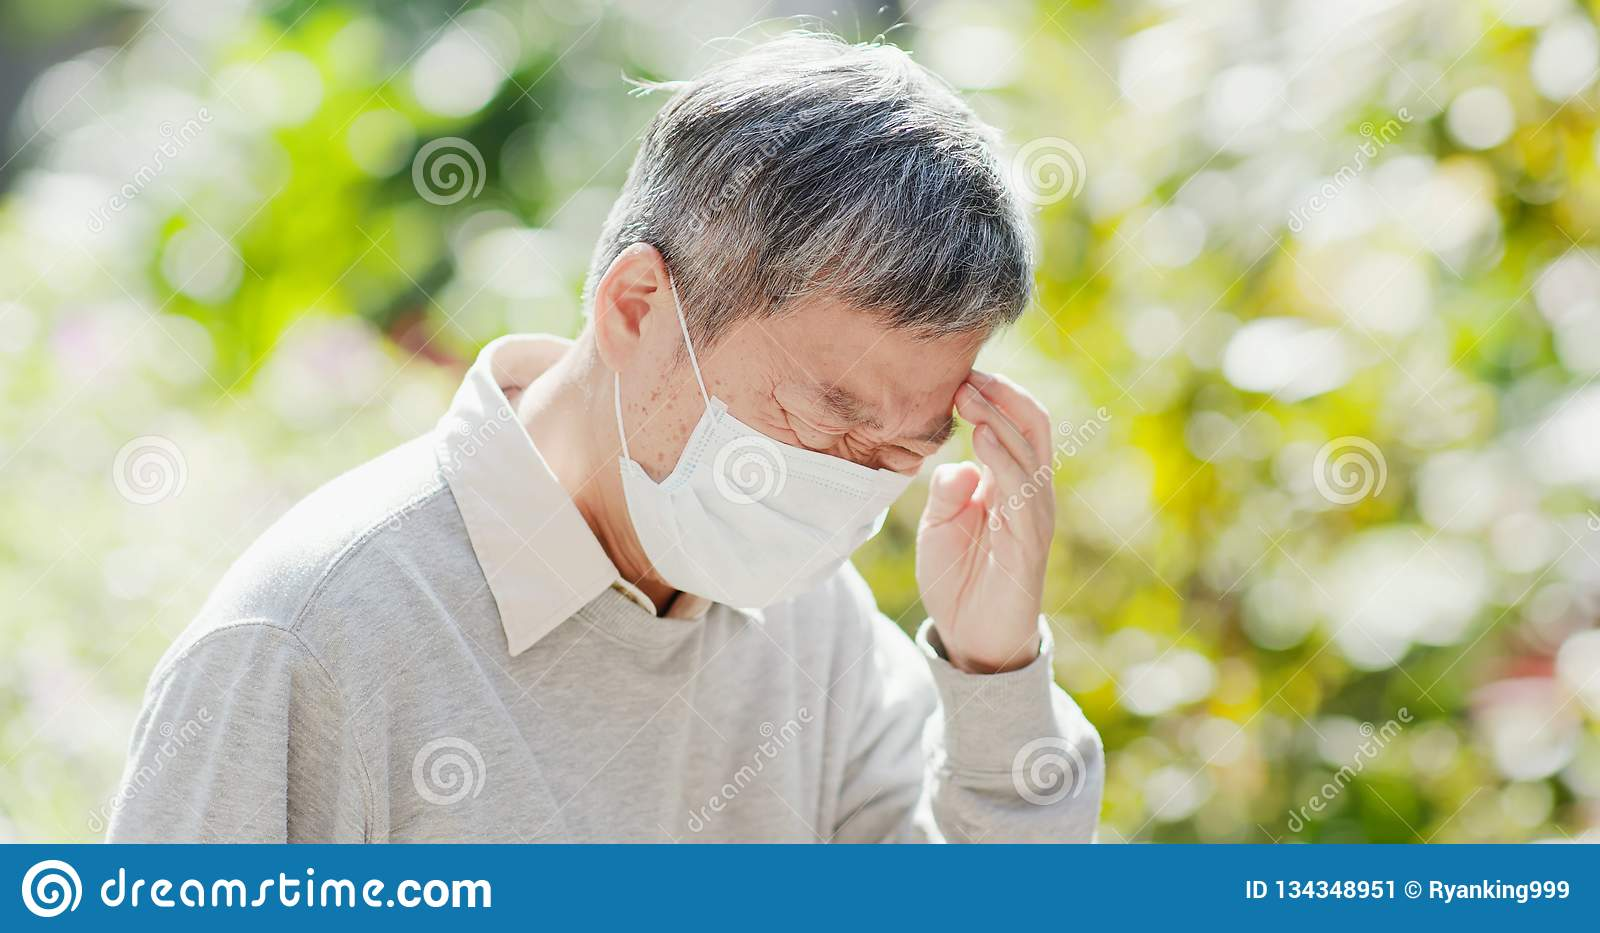mask: (623, 405, 918, 628)
